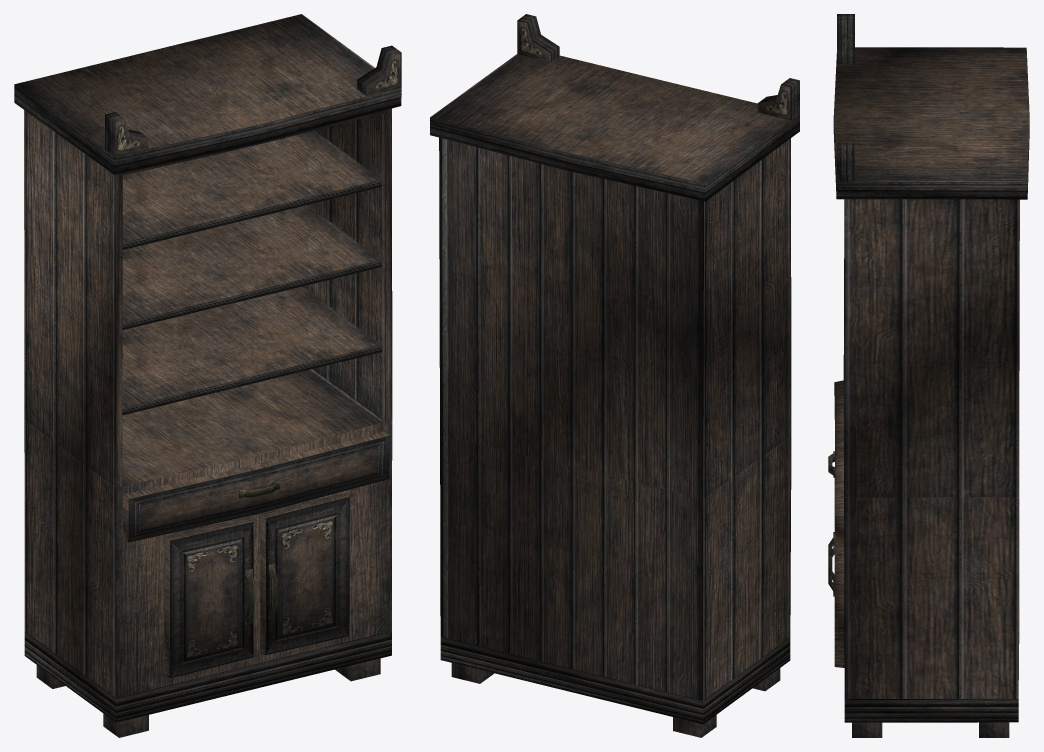
File: GS_VOB_RICHSHELF_BLACK_01_KOZA.glb
3 renders of one model, left to right at view 1: azimuth 30°, elevation 25°; view 2: azimuth 150°, elevation 25°; view 3: azimuth 270°, elevation 25°, orthographic. The views are drawn at different scales.
Visible parts, largest first — view 1: Mesh; view 2: Mesh; view 3: Mesh.
Part boxes in pixels (x1,y1,x2,y2): Mesh: (14,14,401,737); Mesh: (430,14,799,737); Mesh: (828,14,1029,737).
Bounding box in the file's own units: 1.48 × 3.08 × 0.9415.
4 materials, 4 textured.
